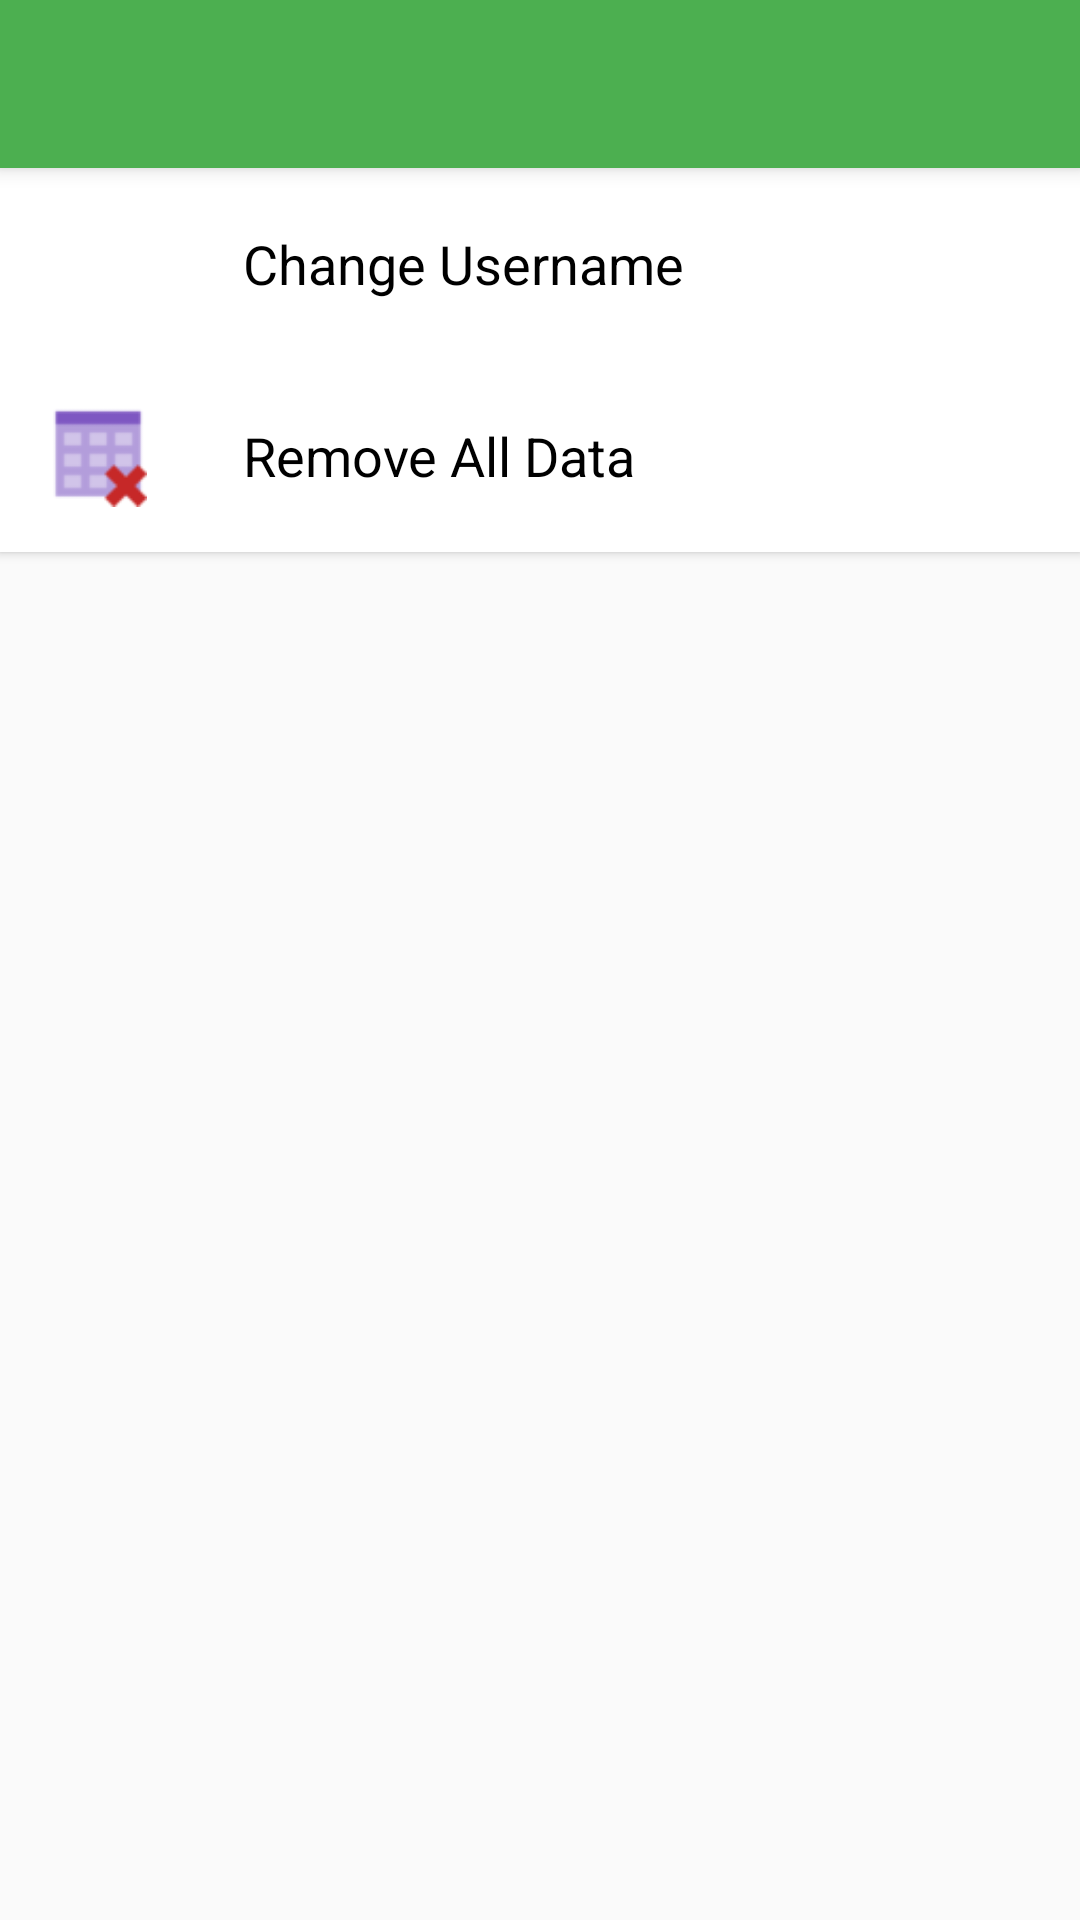

Icons on this 1080×1920 Android screen, each with its box as (x1, y1, x2, y2):
delete all: (55, 410, 147, 507)
